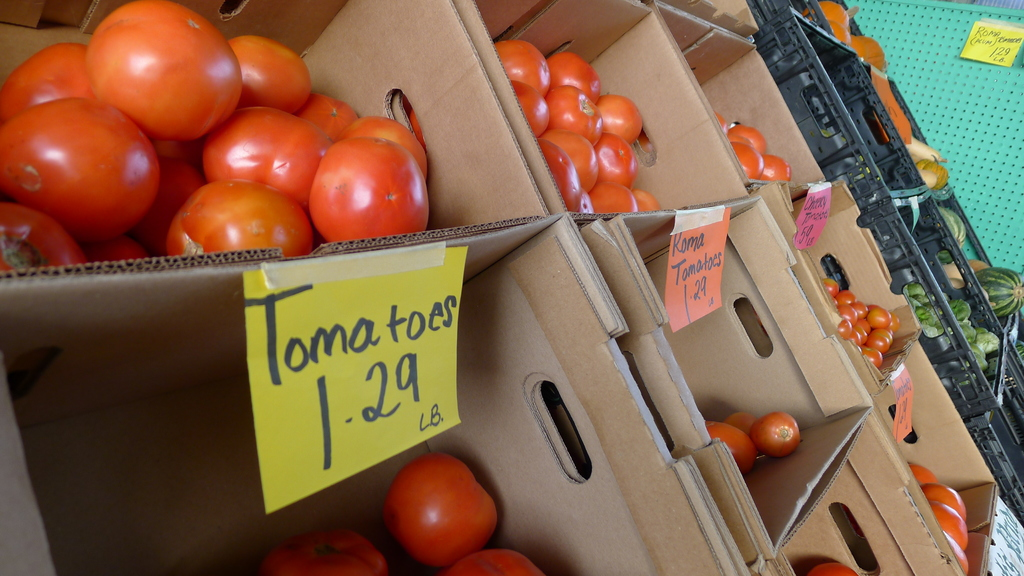Tomato: (1, 0, 440, 261), (487, 37, 661, 212), (382, 447, 507, 569), (309, 127, 432, 242), (818, 277, 910, 363), (713, 110, 796, 184), (261, 529, 385, 575), (443, 540, 545, 575), (747, 409, 806, 460), (704, 418, 757, 469), (927, 501, 969, 553), (917, 483, 965, 519), (942, 528, 970, 572), (727, 408, 755, 439), (805, 561, 862, 575), (908, 463, 944, 483)
